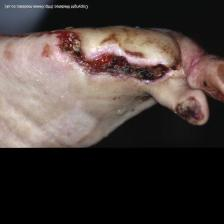Wound: (37, 31, 179, 89), (172, 96, 211, 121)
